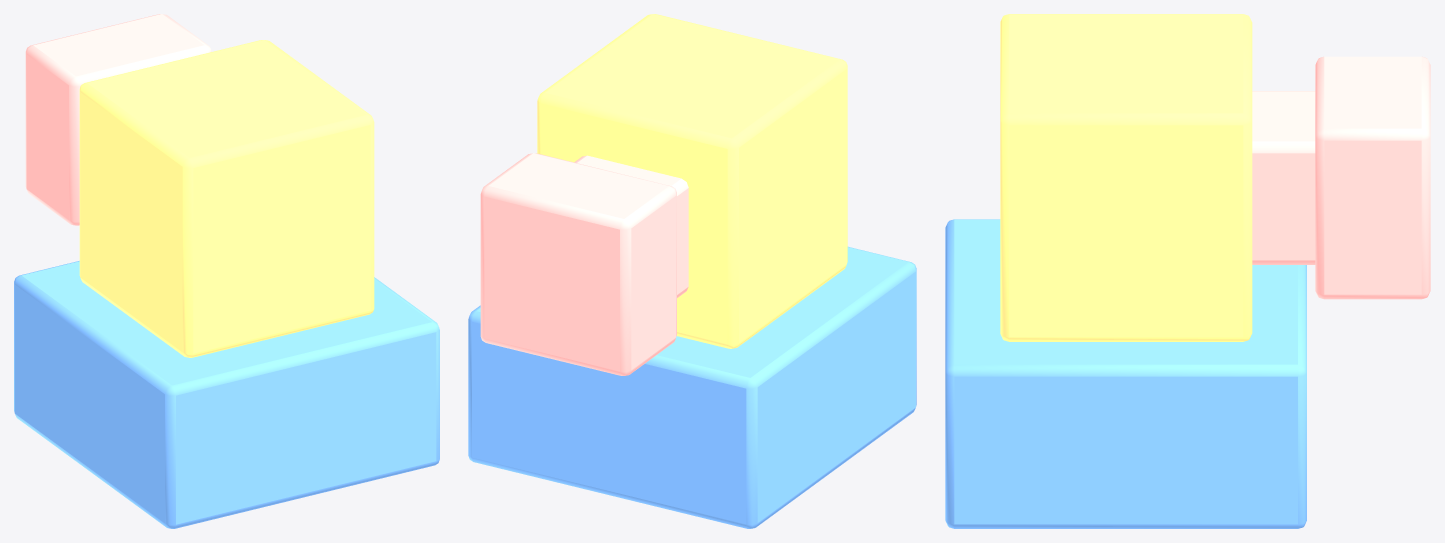
Rendered from Tanks1.fbx.
The picture shows the model from 3 angles, left to right: view 1: azimuth 30°, elevation 25°; view 2: azimuth 150°, elevation 25°; view 3: azimuth 270°, elevation 25°; orthographic projection. The views are drawn at different scales.
Visible parts, largest first — view 1: Cube.009, Cube.008, Cube.010; view 2: Cube.008, Cube.009, Cube.010; view 3: Cube.009, Cube.008, Cube.010.
Part boxes in pixels (x1,y1,x2,y2): Cube.009: (79,40,374,357); Cube.008: (14,261,439,528); Cube.010: (25,14,211,225); Cube.008: (468,246,916,528); Cube.009: (537,14,847,348); Cube.010: (480,153,688,375); Cube.009: (1000,14,1252,341); Cube.008: (945,219,1306,528); Cube.010: (1252,56,1430,299).
Bounding box in the file's own units: 2 × 2.39 × 2.68.
